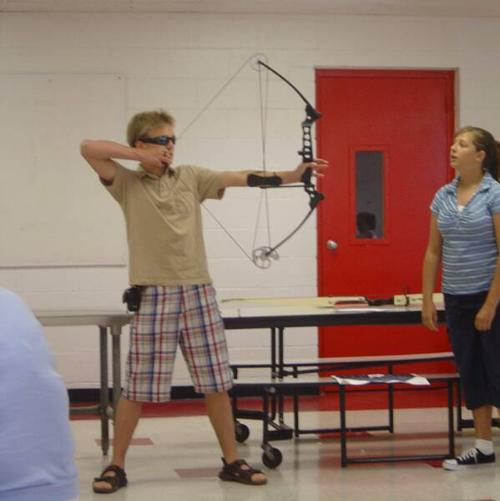person: (77, 113, 327, 492)
